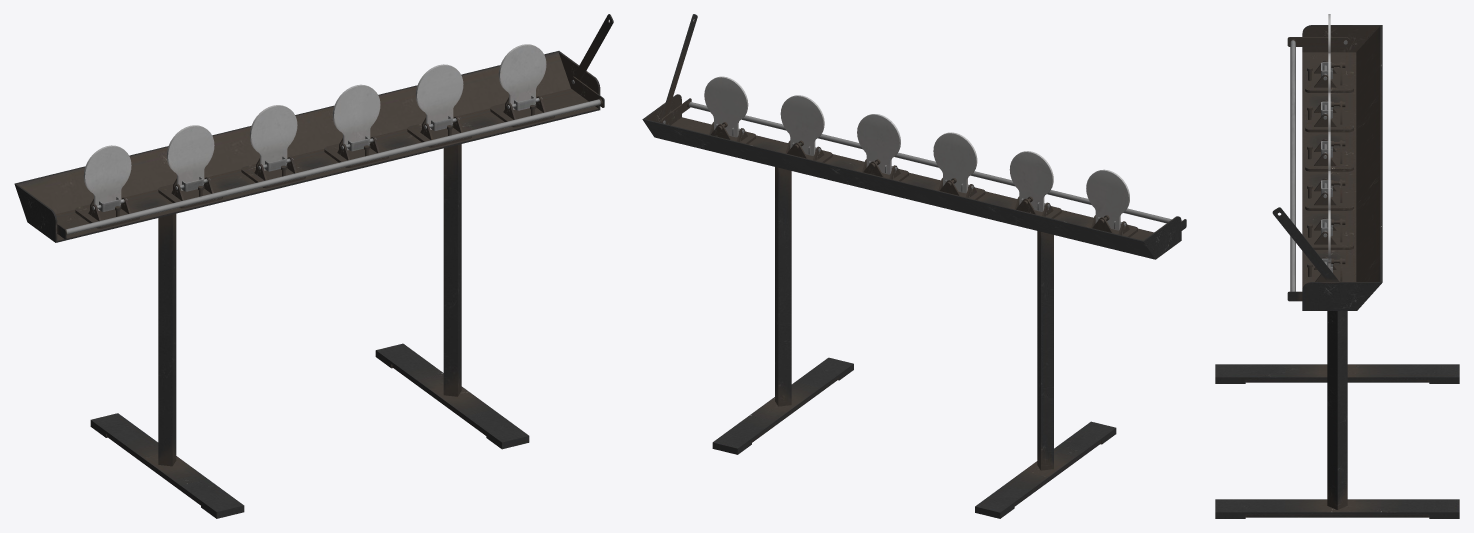
File: target_plate_rack.glb
The picture shows the model from 3 angles, left to right: view 1: azimuth 30°, elevation 25°; view 2: azimuth 150°, elevation 25°; view 3: azimuth 270°, elevation 25°; orthographic projection. The views are drawn at different scales.
Parts seen in each view (by area): view 1: PlateRack_Stand_TargetSet02_0, PlateRack_ResetArm_TargetSet02_0, PlateRack_Plate_05_TargetSet02_0, PlateRack_Plate_04_TargetSet02_0, PlateRack_Plate_02_TargetSet02_0, PlateRack_Plate_03_TargetSet02_0, PlateRack_Plate_06_TargetSet02_0, PlateRack_Plate_01_TargetSet02_0; view 2: PlateRack_Stand_TargetSet02_0, PlateRack_ResetArm_TargetSet02_0, PlateRack_Plate_05_TargetSet02_0, PlateRack_Plate_03_TargetSet02_0, PlateRack_Plate_06_TargetSet02_0, PlateRack_Plate_02_TargetSet02_0, PlateRack_Plate_04_TargetSet02_0, PlateRack_Plate_01_TargetSet02_0; view 3: PlateRack_Stand_TargetSet02_0, PlateRack_ResetArm_TargetSet02_0.
Boxes of the visible parts, x1=… form: PlateRack_Stand_TargetSet02_0: x1=14, y1=51, x2=600, y2=518; PlateRack_ResetArm_TargetSet02_0: x1=57, y1=14, x2=613, y2=238; PlateRack_Plate_05_TargetSet02_0: x1=166, y1=125, x2=214, y2=191; PlateRack_Plate_04_TargetSet02_0: x1=249, y1=105, x2=297, y2=171; PlateRack_Plate_02_TargetSet02_0: x1=415, y1=64, x2=463, y2=130; PlateRack_Plate_03_TargetSet02_0: x1=332, y1=84, x2=380, y2=151; PlateRack_Plate_06_TargetSet02_0: x1=83, y1=145, x2=131, y2=211; PlateRack_Plate_01_TargetSet02_0: x1=498, y1=44, x2=546, y2=110; PlateRack_Stand_TargetSet02_0: x1=642, y1=94, x2=1181, y2=518; PlateRack_ResetArm_TargetSet02_0: x1=659, y1=14, x2=1186, y2=230; PlateRack_Plate_05_TargetSet02_0: x1=1009, y1=151, x2=1053, y2=211; PlateRack_Plate_03_TargetSet02_0: x1=857, y1=114, x2=900, y2=174; PlateRack_Plate_06_TargetSet02_0: x1=1086, y1=169, x2=1129, y2=230; PlateRack_Plate_02_TargetSet02_0: x1=780, y1=95, x2=824, y2=155; PlateRack_Plate_04_TargetSet02_0: x1=933, y1=132, x2=977, y2=193; PlateRack_Plate_01_TargetSet02_0: x1=704, y1=76, x2=748, y2=137; PlateRack_Stand_TargetSet02_0: x1=1215, y1=25, x2=1459, y2=518; PlateRack_ResetArm_TargetSet02_0: x1=1272, y1=37, x2=1350, y2=301.
Bounding box in the file's own units: 2.38 × 1.57 × 0.953.
Materials: 1 (1 with a texture image).
